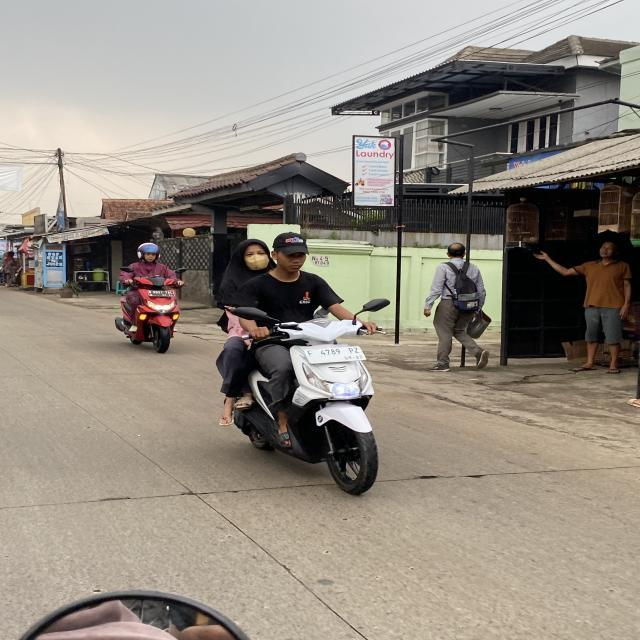Helmet: (137, 242, 159, 259)
Number Plate: (304, 345, 365, 363), (149, 290, 174, 297)
Rearview Mirror: (22, 591, 248, 639), (231, 307, 268, 320), (362, 298, 389, 311), (174, 268, 187, 274), (120, 266, 132, 272)
